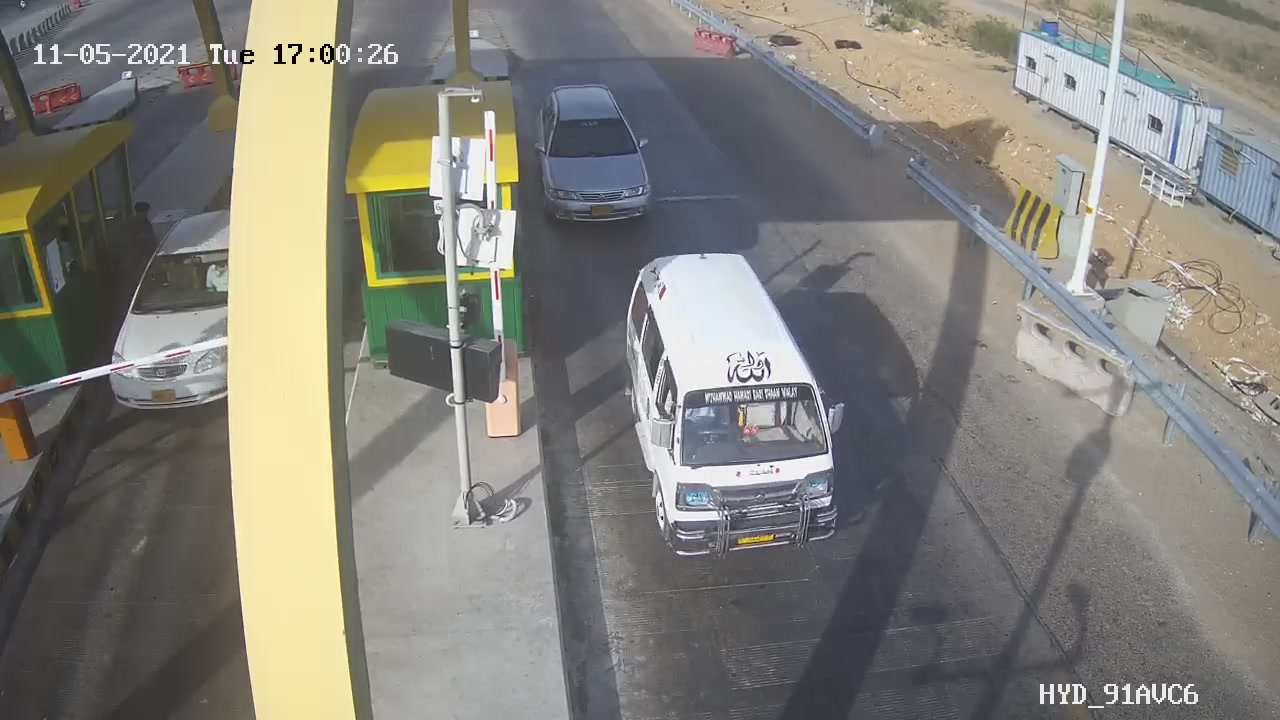F1: (518, 72, 676, 236)
